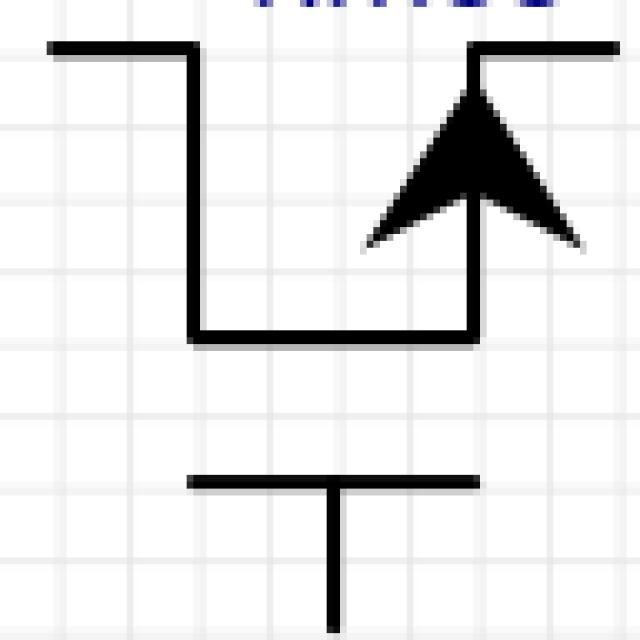nmos: (27, 22, 620, 640)
